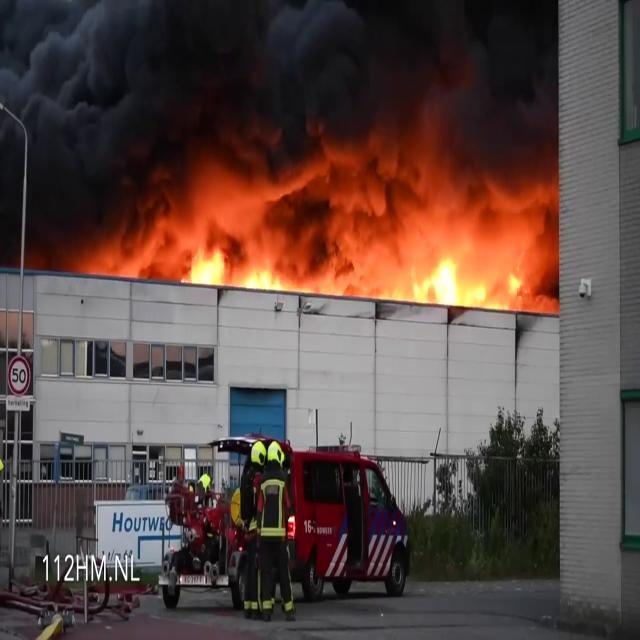Fire: (80, 203, 318, 291), (386, 223, 534, 312)
Smoke: (0, 1, 550, 273)
